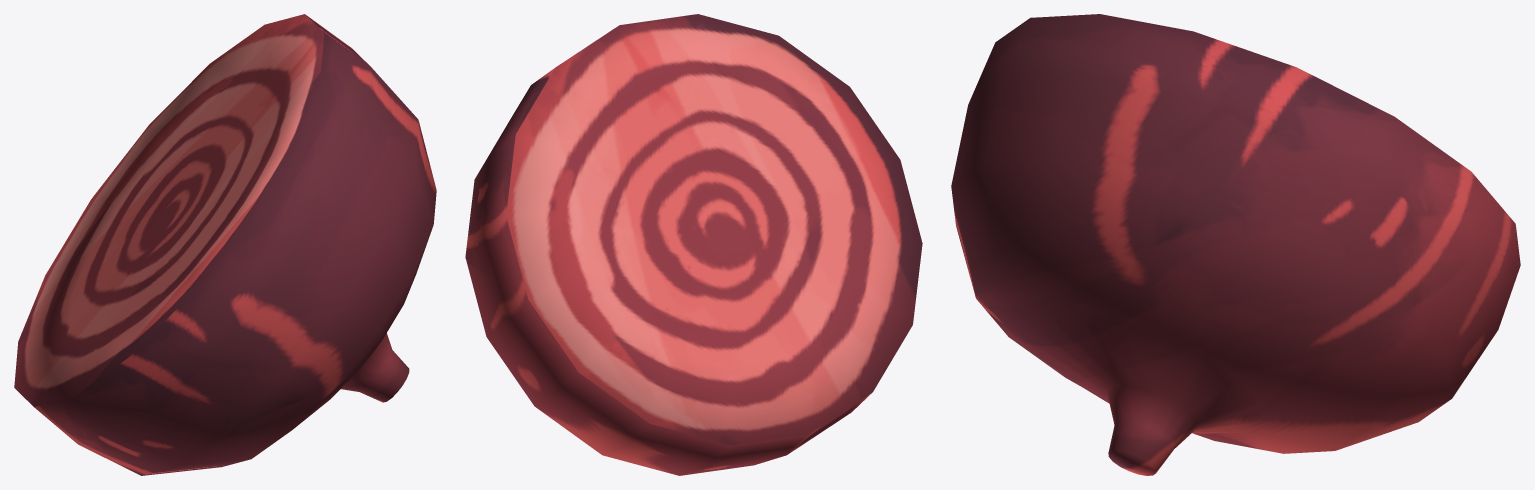
3 renders of one model, left to right at view 1: azimuth 30°, elevation 25°; view 2: azimuth 150°, elevation 25°; view 3: azimuth 270°, elevation 25°, orthographic. The views are drawn at different scales.
Parts seen in each view (by area): view 1: onion-half; view 2: onion-half; view 3: onion-half.
Boxes of the visible parts, box(x1,y1,x2,y2) form: onion-half: box(14, 14, 436, 475); onion-half: box(465, 14, 922, 475); onion-half: box(951, 14, 1520, 475).
Bounding box in the file's own units: 0.8909 × 0.9042 × 0.978.
1 material, 1 textured.
